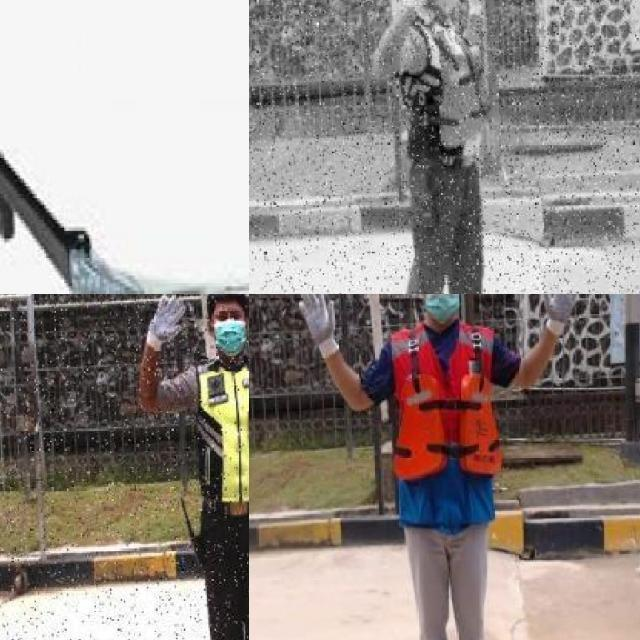apron: (293, 294, 342, 360), (141, 294, 189, 355), (542, 294, 582, 332), (460, 0, 484, 18)
